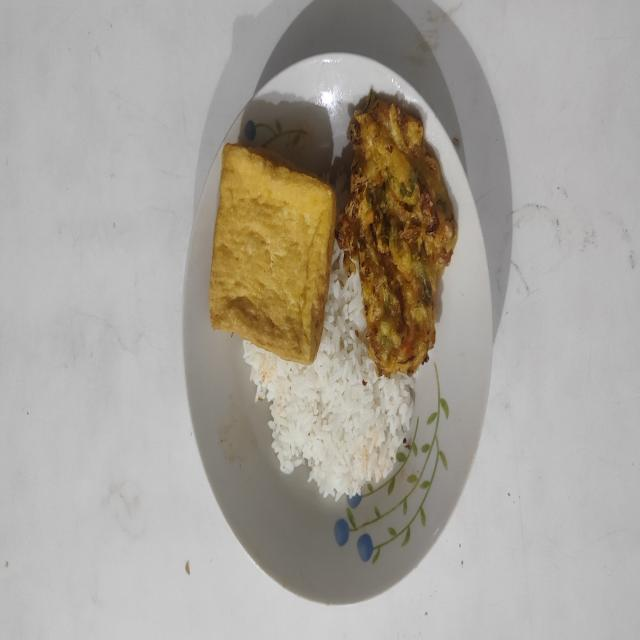nasi_putih: (244, 240, 414, 502)
tahu_goreng: (209, 143, 336, 364)
